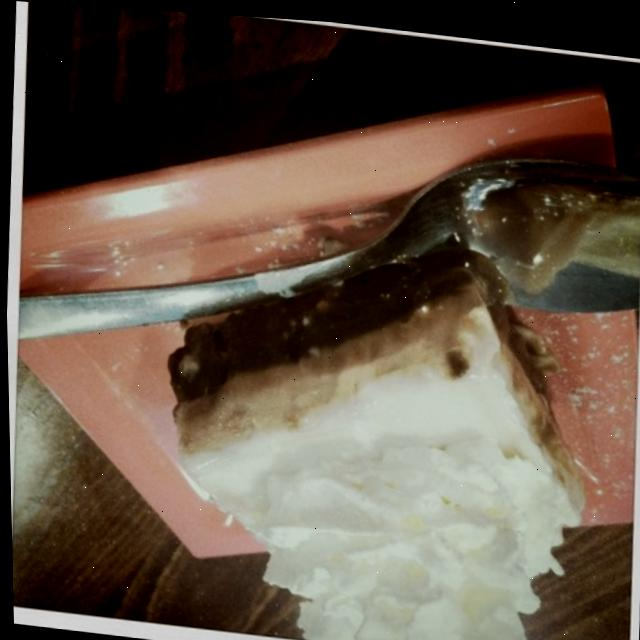蛋糕甜品: (47, 18, 628, 640)
